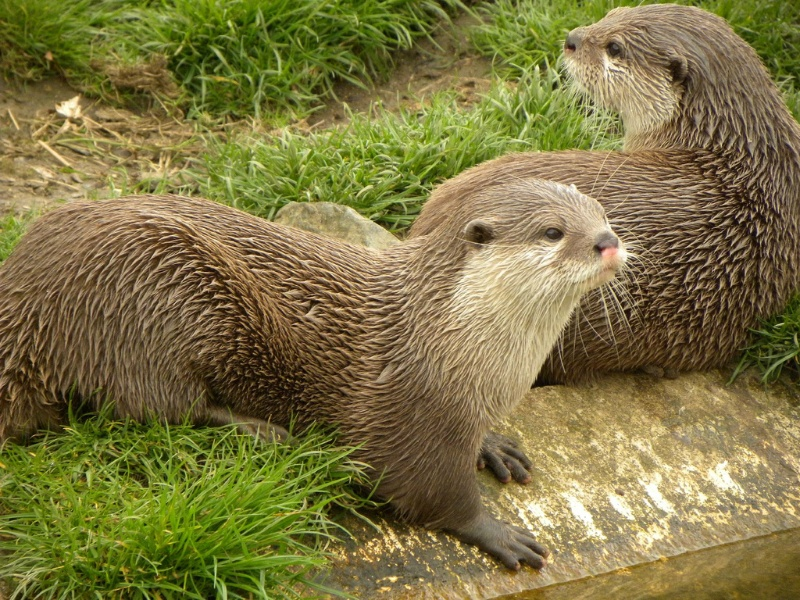minkish: (1, 170, 640, 575), (396, 5, 800, 368)
